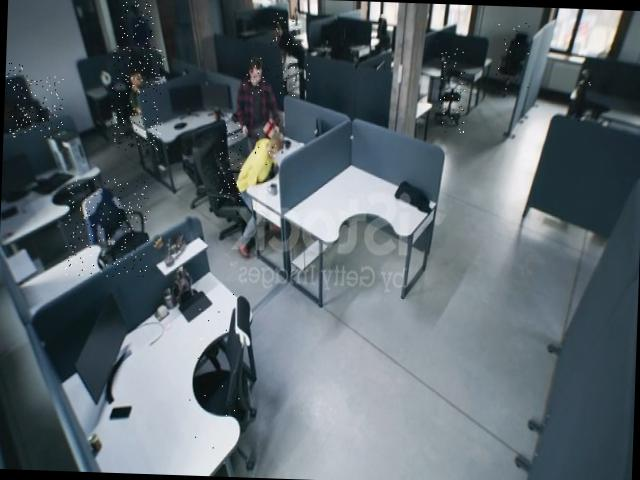empty chair: (187, 292, 256, 461), (64, 177, 150, 278), (170, 107, 220, 226), (188, 124, 242, 202), (556, 65, 614, 123), (494, 20, 530, 91), (439, 46, 467, 132), (276, 61, 310, 96)
occupiedchair: (110, 46, 166, 152), (5, 74, 64, 139)
